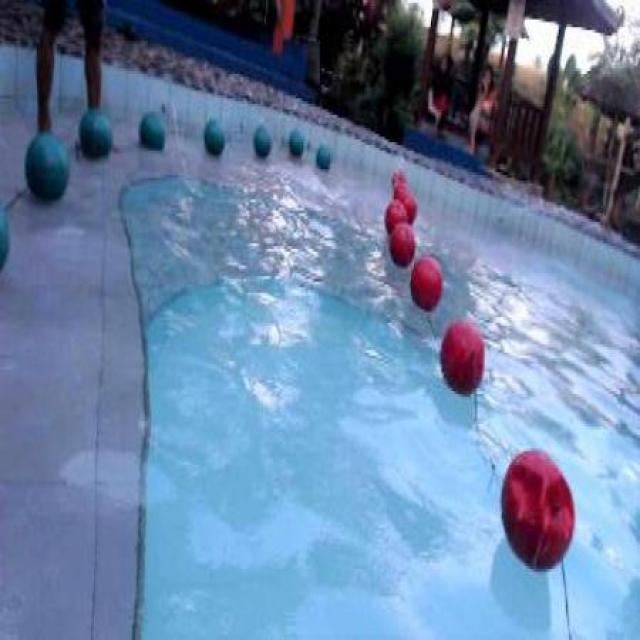buoy: (500, 448, 574, 569), (439, 316, 484, 395), (23, 133, 69, 201), (409, 254, 443, 308), (78, 106, 110, 156), (389, 224, 415, 268), (137, 109, 165, 148), (202, 117, 222, 156), (385, 201, 406, 237), (396, 190, 416, 225), (252, 123, 271, 156), (289, 127, 305, 157), (314, 142, 329, 169)
